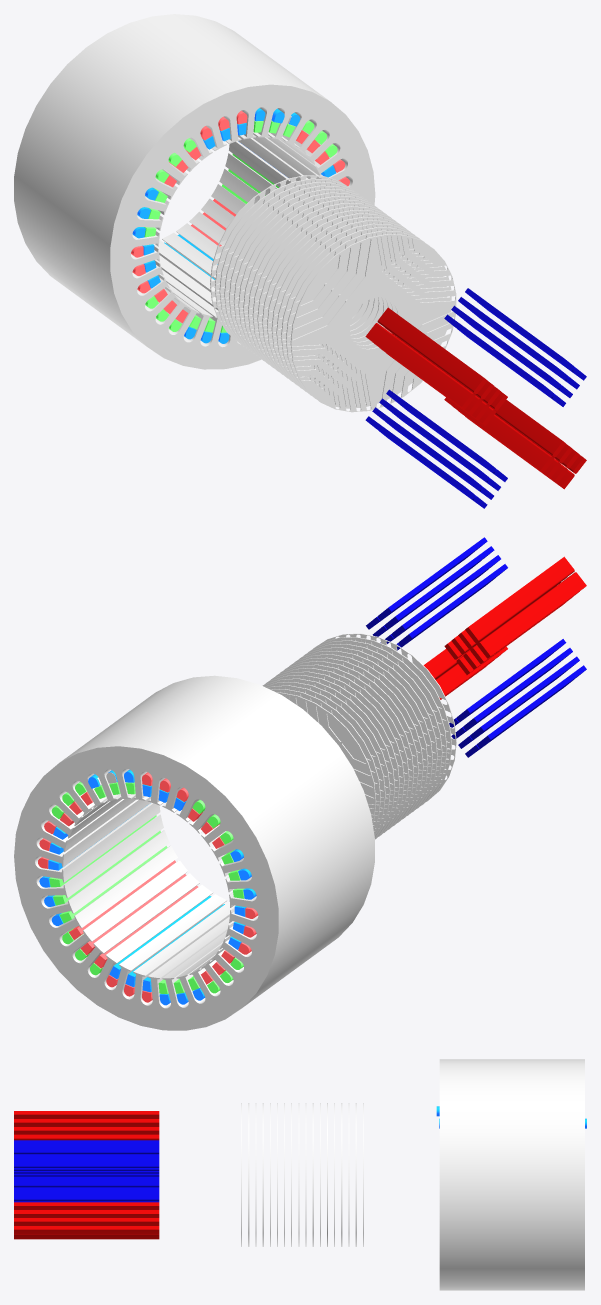
The model's file is 3D_machine.glb.
The picture shows the model from 3 angles, top to bottom: view 1: azimuth 30°, elevation 25°; view 2: azimuth 150°, elevation 25°; view 3: azimuth 270°, elevation 25°; orthographic projection. The views are drawn at different scales.
Parts seen in each view (by area): view 1: mesh43, mesh58, mesh100, mesh1, mesh10; view 2: mesh43, mesh58, mesh1, mesh100, mesh10; view 3: mesh43, mesh58.
Boxes of the visible parts, box(x1,y1,x2,y2) form: mesh43: box(14, 14, 456, 412); mesh58: box(365, 288, 586, 508); mesh100: box(144, 120, 337, 332); mesh1: box(131, 110, 349, 322); mesh10: box(132, 108, 335, 343); mesh43: box(14, 633, 456, 1030); mesh58: box(366, 537, 586, 757); mesh1: box(38, 772, 257, 1002); mesh100: box(49, 782, 244, 994); mesh10: box(39, 769, 256, 1005); mesh43: box(241, 1059, 584, 1290); mesh58: box(14, 1111, 159, 1239).
Size of the model in its own units: 23.06 by 23.08 by 57.19.
